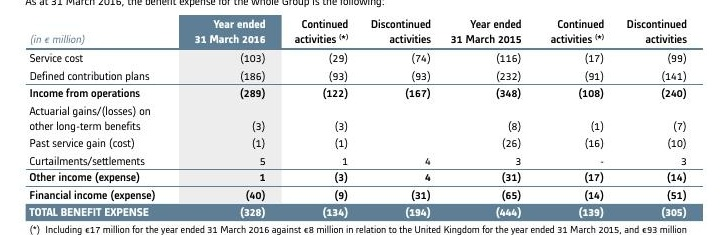table: (0, 0, 726, 235)
